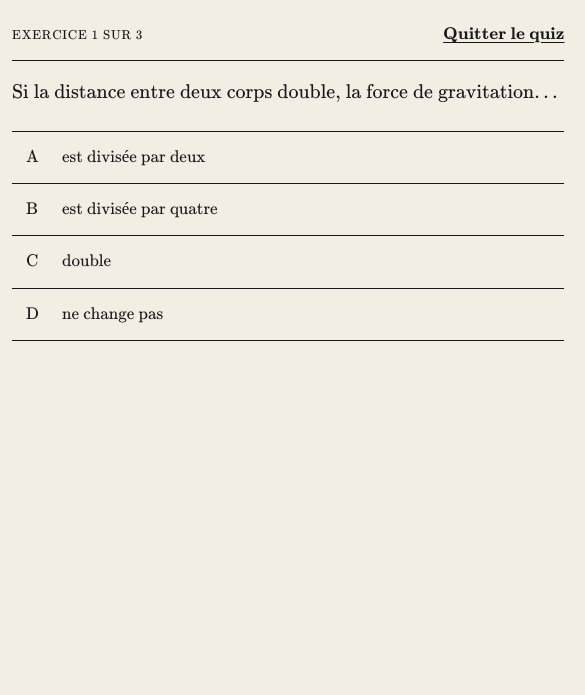
Test case: the final score › is zero when everything is wrong
Click the button "A est divisée par deux" at (134, 157), box [12, 132, 564, 183]
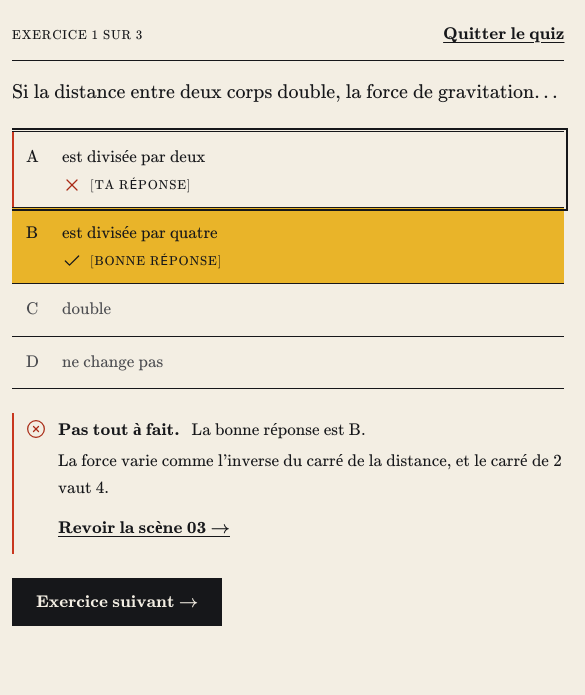
Click the button "Exercice suivant →" at (117, 602), box [12, 578, 222, 626]
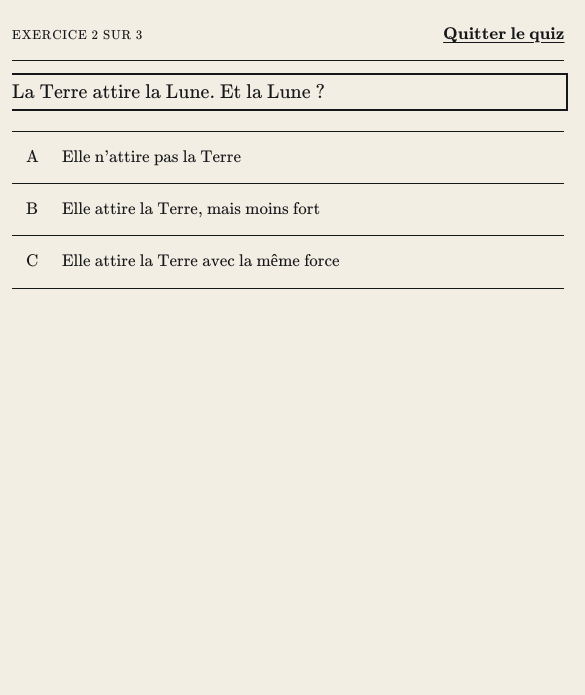
Click the button "A Elle n'attire pas la Terre" at (152, 157), box [12, 132, 564, 183]
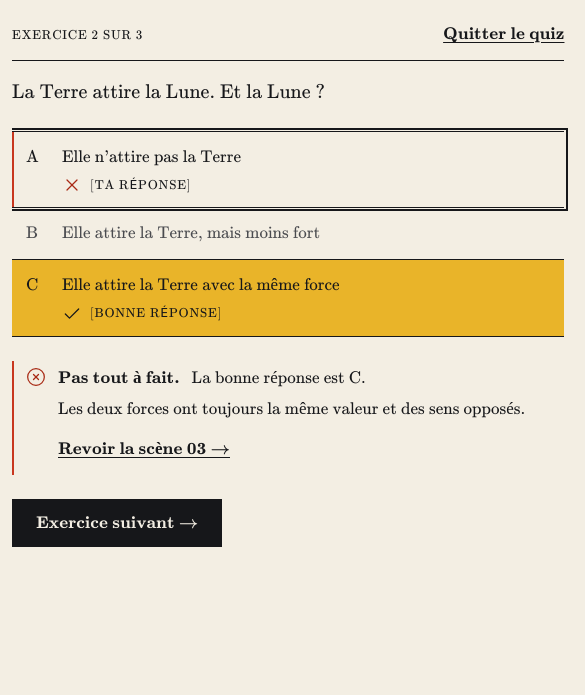
Click the button "Exercice suivant →" at (117, 523), box [12, 499, 222, 547]
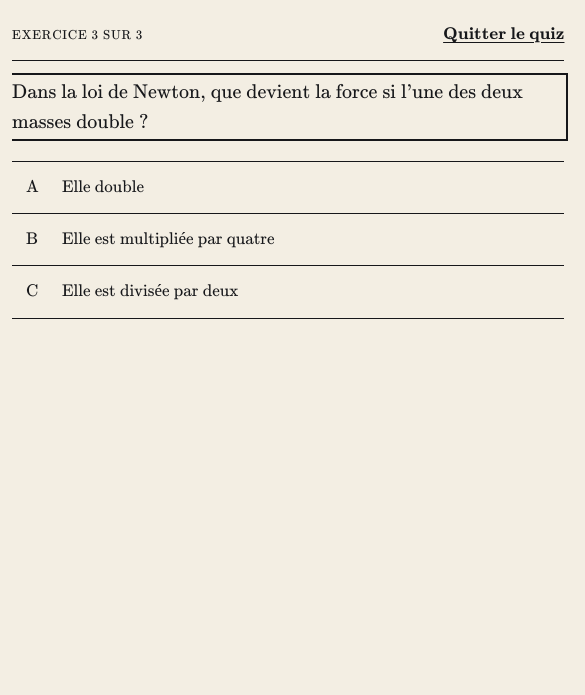
Click the button "B Elle est multipliée par quatre" at (168, 239), box [12, 214, 564, 265]
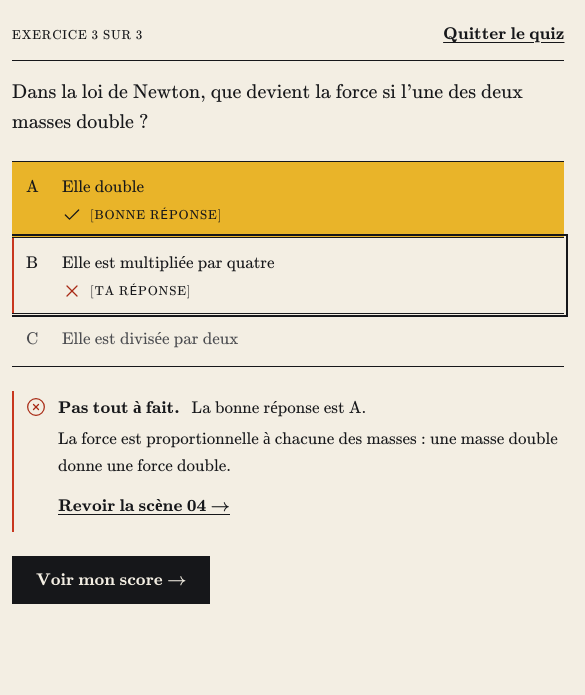
Click the button "Voir mon score →" at (111, 580), box [12, 556, 210, 604]
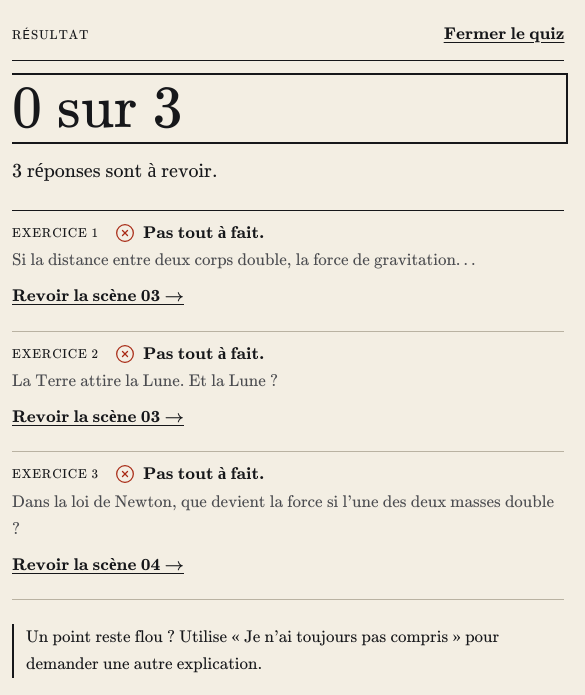
Expected: the heading "0 sur 3" is shown, [12, 73, 182, 143]
